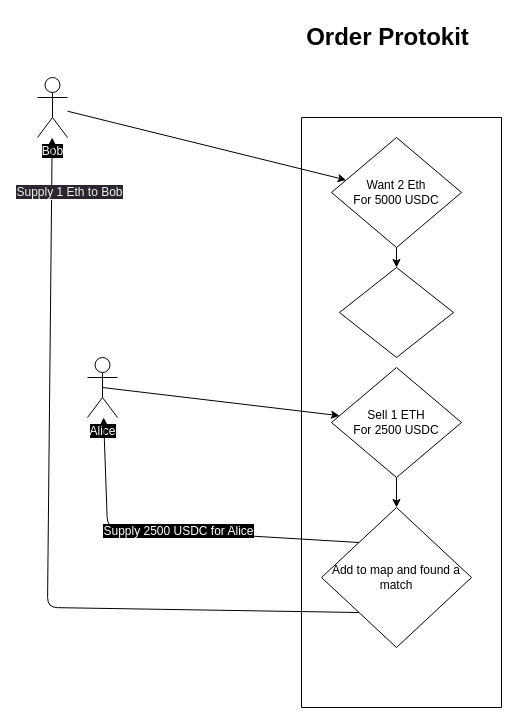
The diagram is 520 pixels wide and 725 high, and some of its shapes have lost their labels. The box of each missing label's shape, as (x1, y1, x2, y2) in pixels:
Add to map: (338, 266, 454, 358)
Runtime module: (300, 116, 502, 708)
